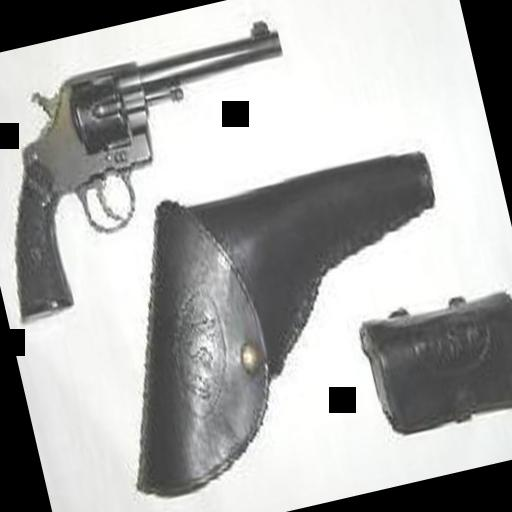Handgun: (0, 11, 326, 319)
